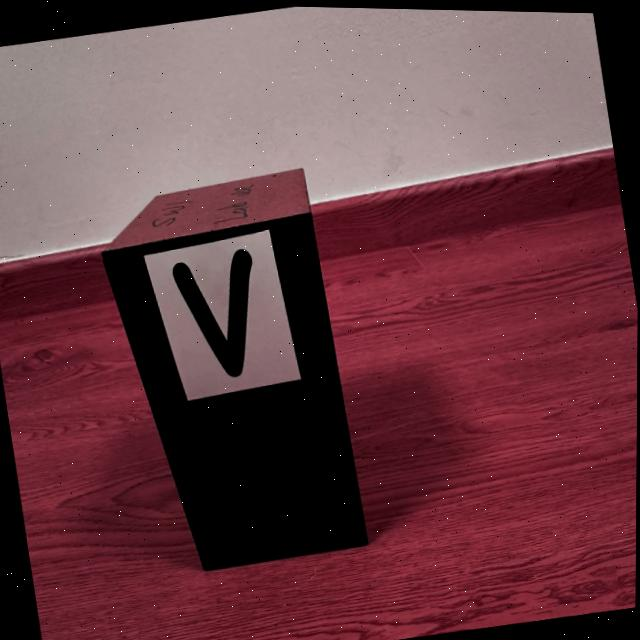V: (173, 248, 253, 376)
